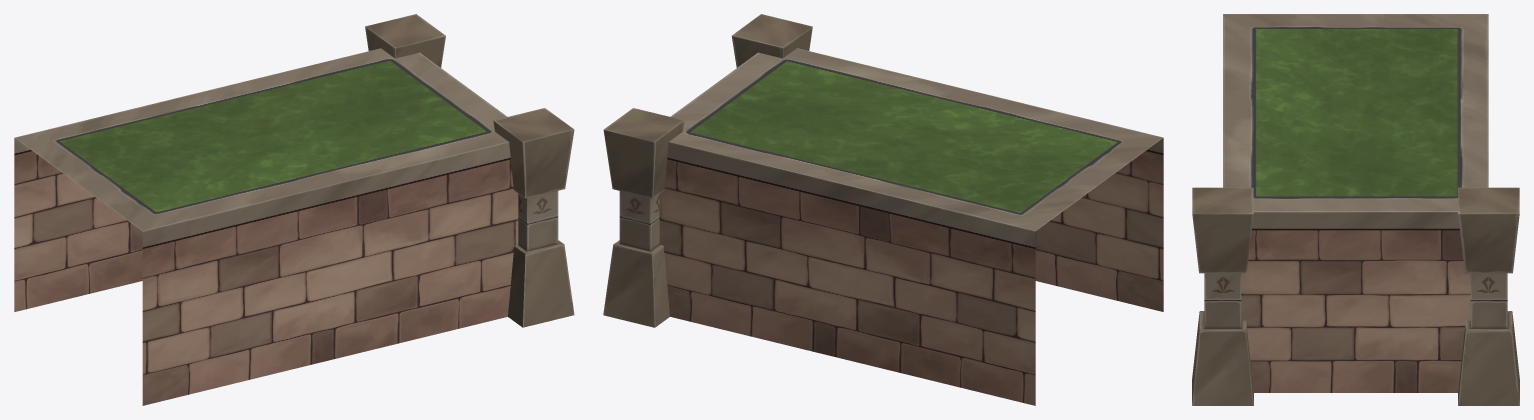
File: wall_simple_modular.fbx
3 views of the same model, side by side, from view 1: azimuth 30°, elevation 25°; view 2: azimuth 150°, elevation 25°; view 3: azimuth 270°, elevation 25° (orthographic). The views are drawn at different scales.
Visible parts, largest first — view 1: polySurface2488; view 2: polySurface2488; view 3: polySurface2488.
Part boxes in pixels (box(x1,y1,x2,y2)): polySurface2488: box(14, 14, 574, 405); polySurface2488: box(603, 14, 1163, 405); polySurface2488: box(1192, 14, 1519, 405).
Size of the model in its own units: 7.23 by 3.07 by 4.75.
